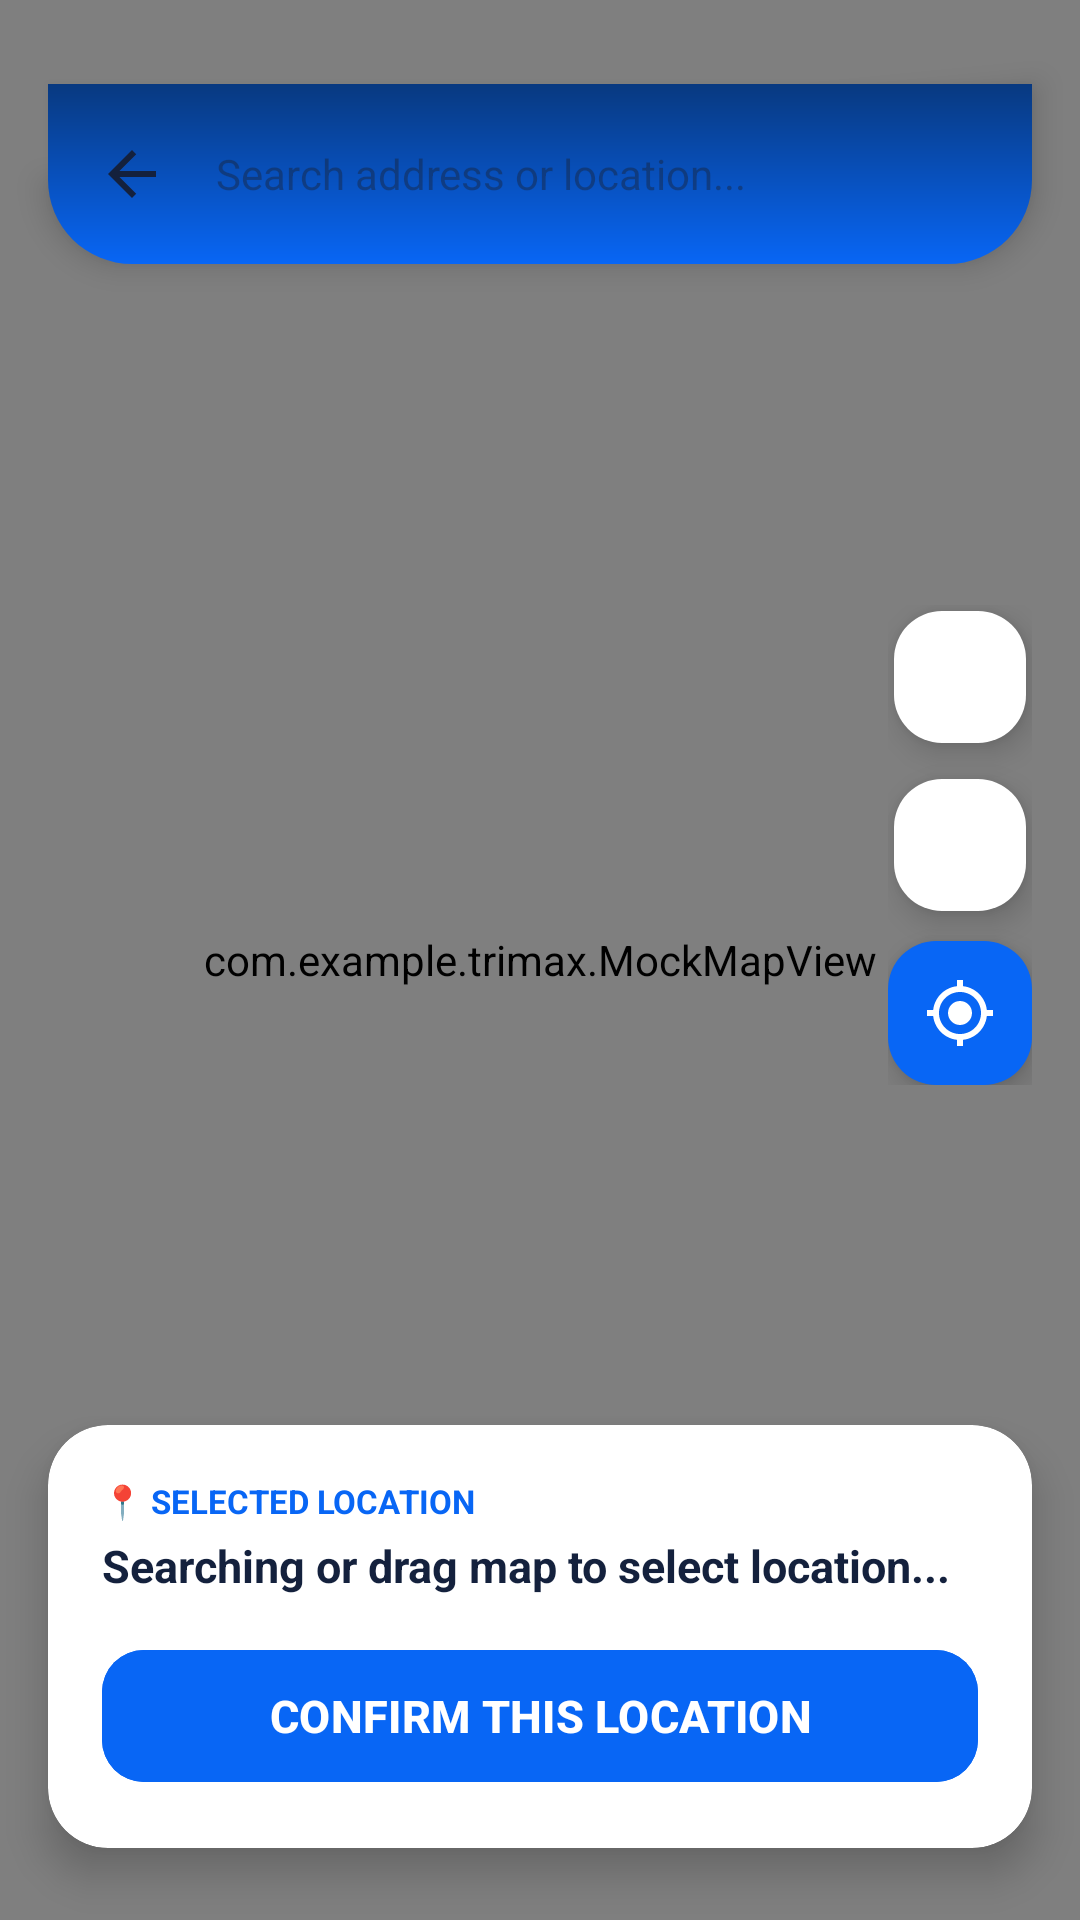

Icons on this 1080 x 1920 Android screen, each with the point to tap as point (x, y):
Back: point (132, 174)
My Location: point (960, 1013)
